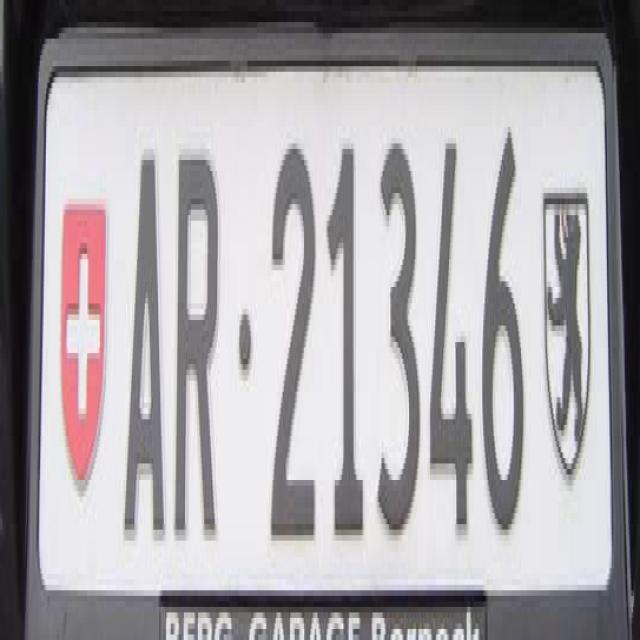Autre: (39, 48, 617, 640)
